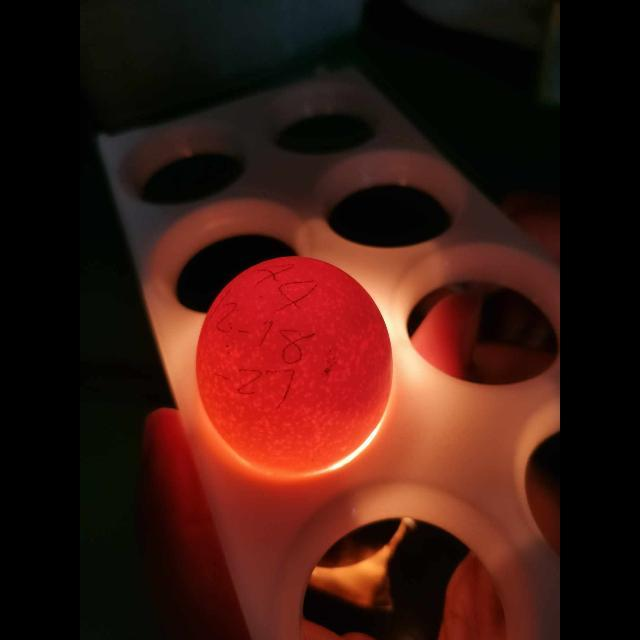Infertile: (202, 252, 396, 472)
